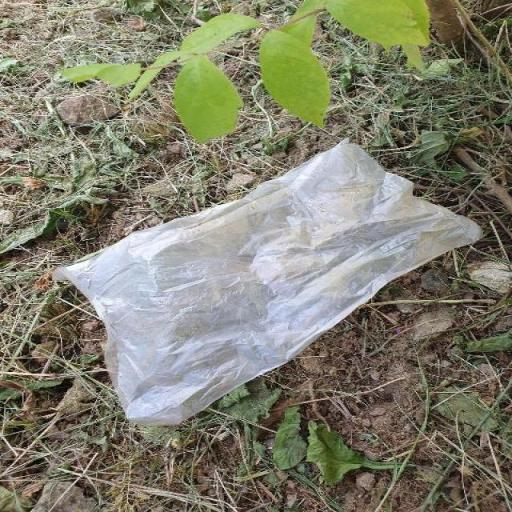plastic-bag: (58, 132, 494, 430)
